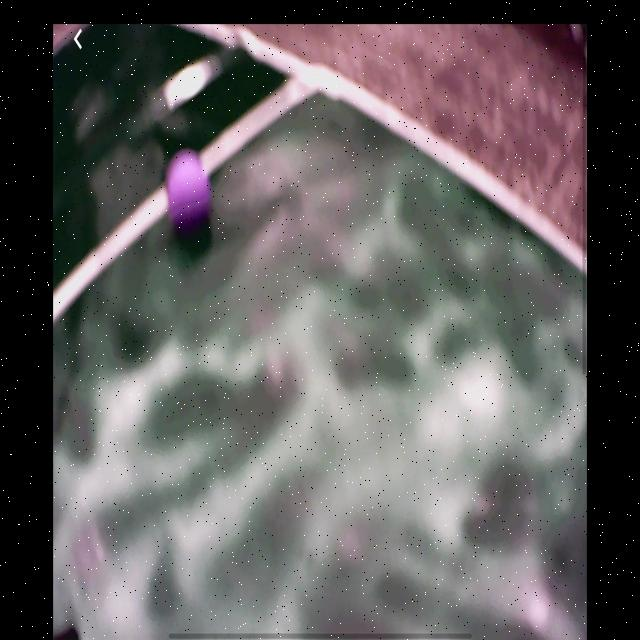ball: (165, 148, 213, 236)
